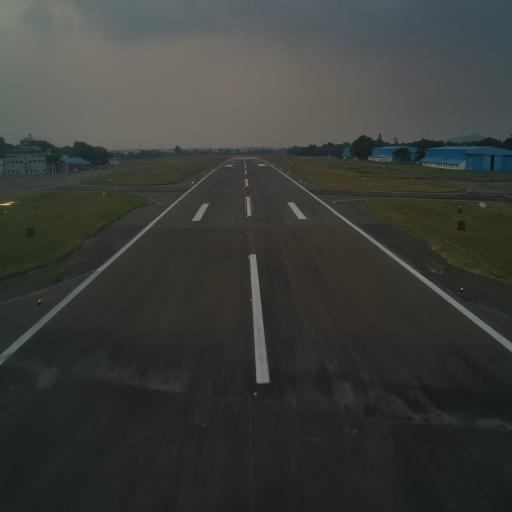on: (37, 296, 44, 306), (252, 388, 259, 397), (458, 284, 464, 294), (248, 294, 254, 304), (246, 252, 252, 261)
